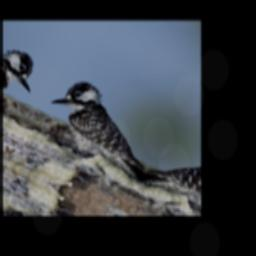Woodpecker: (19, 69, 171, 197)
